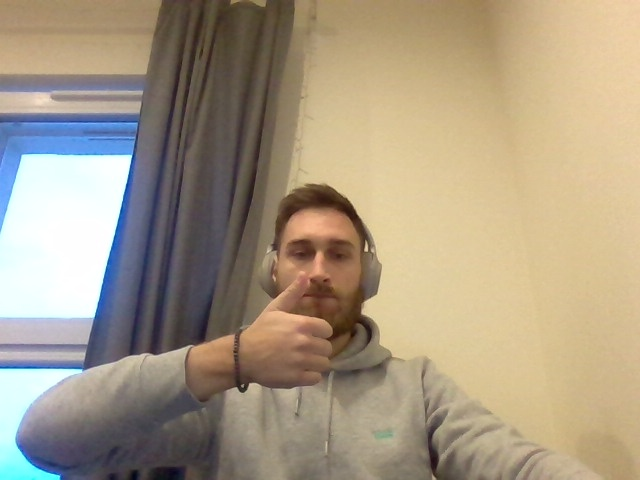ThumbsUp: (237, 271, 332, 390)
